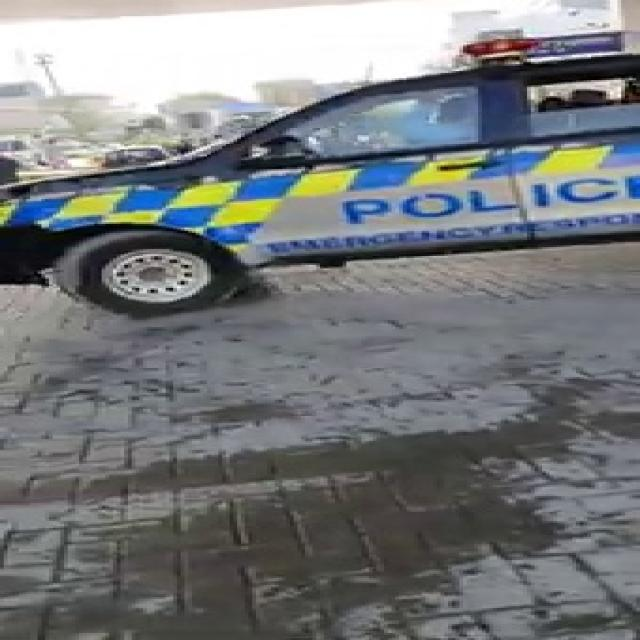police: (14, 1, 640, 310)
